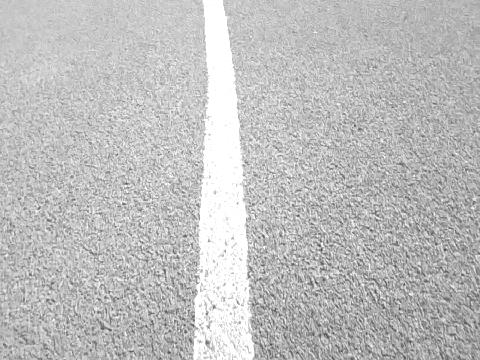Lines: (194, 0, 257, 360)
